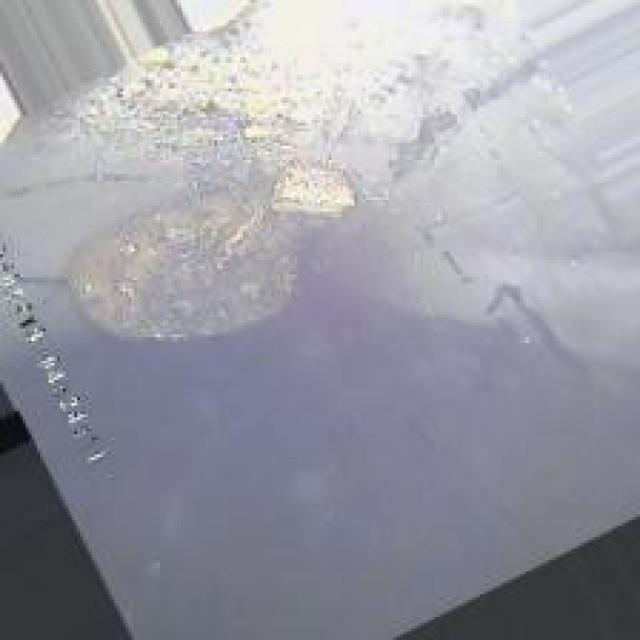stone: (66, 180, 317, 337)
